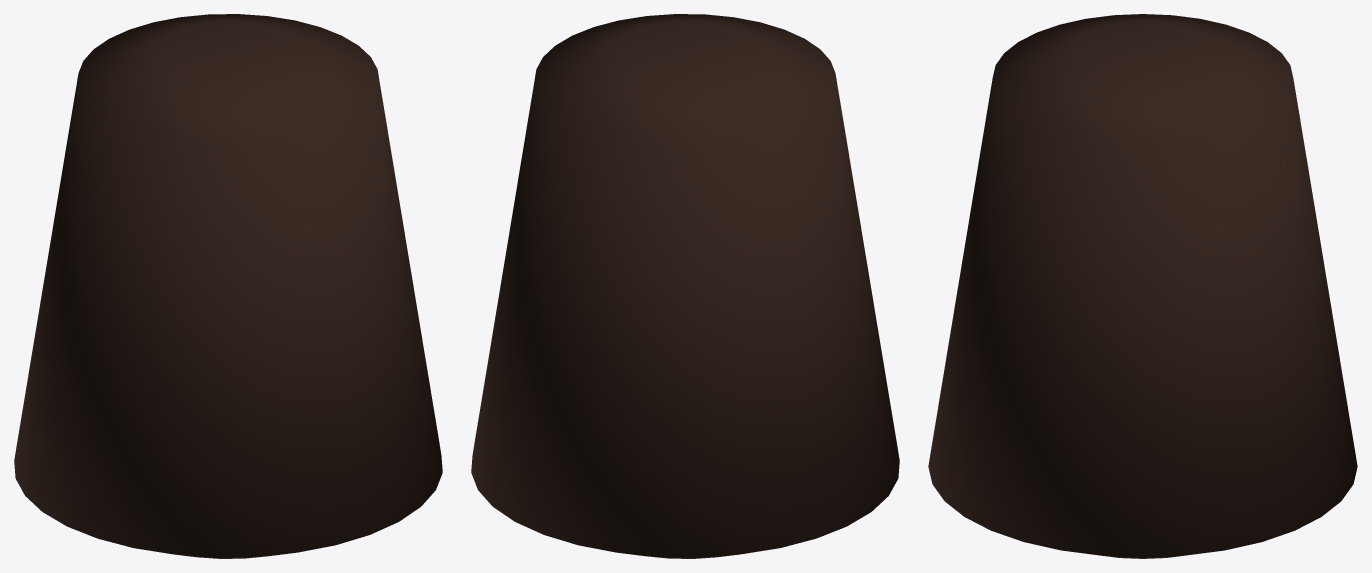
Rendered from trunk.obj.
The picture shows the model from 3 angles, left to right: view 1: azimuth 30°, elevation 25°; view 2: azimuth 150°, elevation 25°; view 3: azimuth 270°, elevation 25°; orthographic projection.
Visible parts, largest first — view 1: Cylinder; view 2: Cylinder; view 3: Cylinder.
Part boxes in pixels (box(x1,y1,x2,y2)): Cylinder: box(14, 14, 442, 558); Cylinder: box(471, 14, 899, 558); Cylinder: box(928, 14, 1357, 558).
Size of the model in its own units: 2 by 2.34 by 2.
